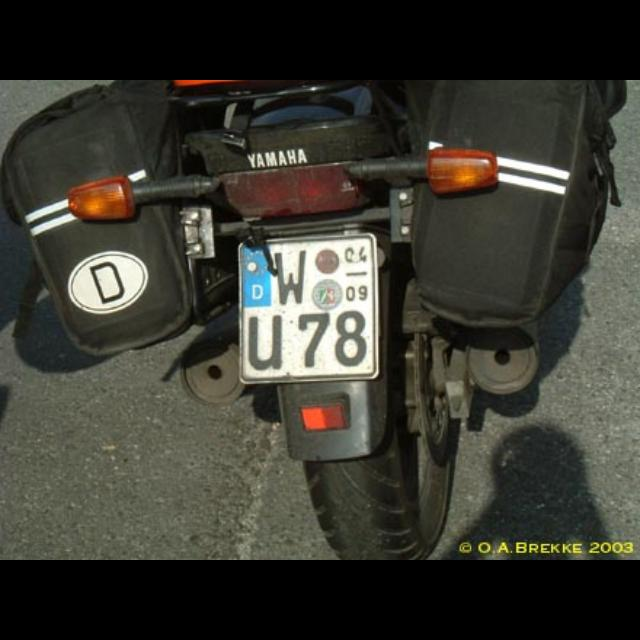d_license_plate: (239, 236, 375, 380)
